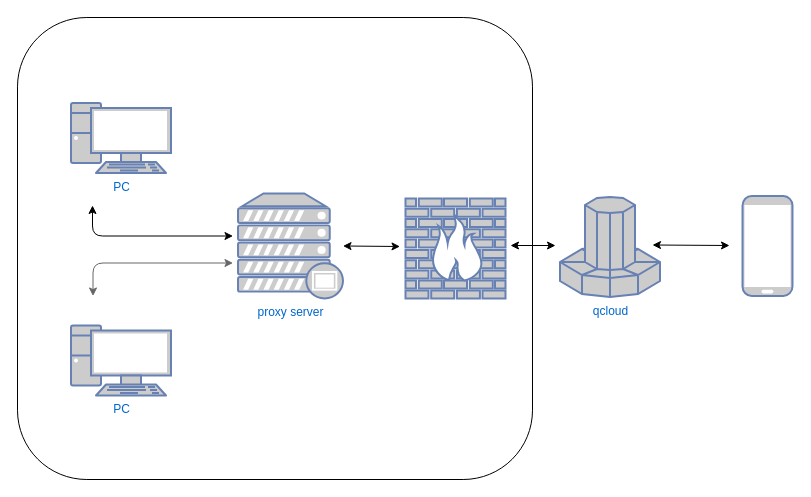
Image size: 811x497. Some labels were removed from this diagram. Here are the shapes that lost their labels. From the top down, the box of each, then its label:
(404, 197, 506, 299): firewall
(741, 194, 793, 296): mobile
